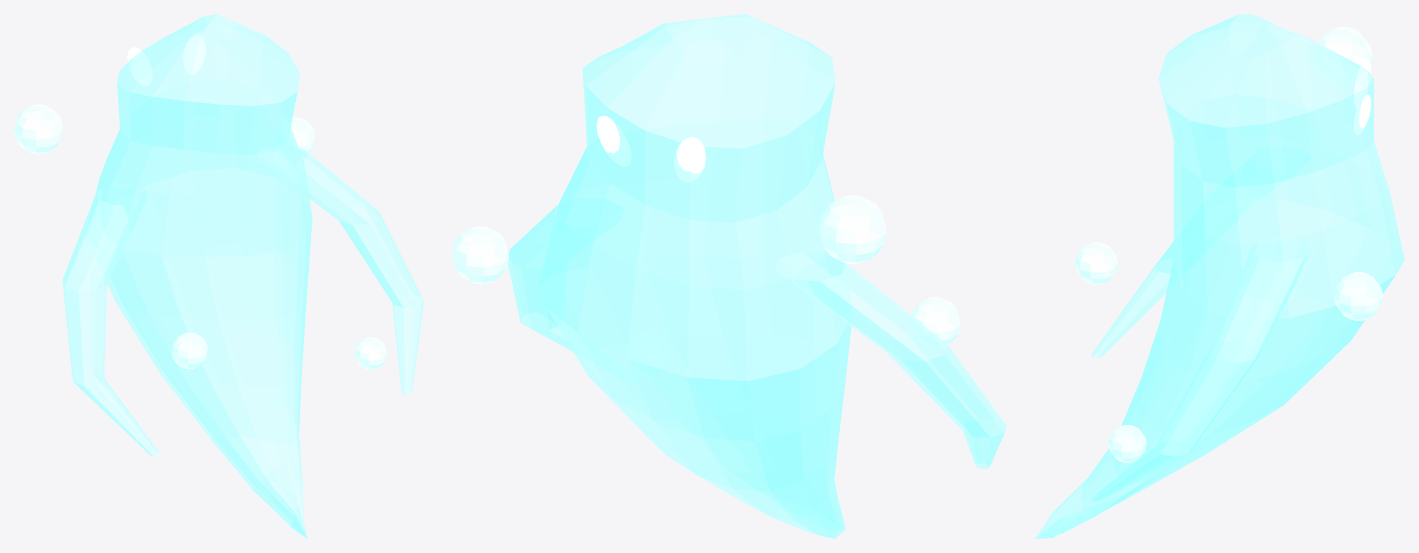
File: GhostSoul.glb
3 views of the same model, side by side, from view 1: azimuth 30°, elevation 25°; view 2: azimuth 150°, elevation 25°; view 3: azimuth 270°, elevation 25° (orthographic). The views are drawn at different scales.
Visible parts, largest first — view 1: Ghost_Body, Ghost_Arm_Left, Ghost_Arm_Right, Spirit_Orb_0, Spirit_Orb_2, Spirit_Orb_1, Spirit_Orb_3, Ghost_Eye_Right, Ghost_Eye_Left; view 2: Ghost_Body, Ghost_Arm_Left, Ghost_Arm_Right, Spirit_Orb_0, Spirit_Orb_1, Spirit_Orb_2, Spirit_Orb_3, Ghost_Eye_Left, Ghost_Eye_Right; view 3: Ghost_Body, Ghost_Arm_Right, Ghost_Arm_Left, Spirit_Orb_0, Spirit_Orb_1, Spirit_Orb_2, Spirit_Orb_3, Ghost_Eye_Left, Ghost_Eye_Right.
Part boxes in pixels (box(x1,y1,x2,y2)): Ghost_Body: box(95, 14, 312, 538); Ghost_Arm_Left: box(62, 184, 160, 456); Ghost_Arm_Right: box(257, 145, 423, 395); Spirit_Orb_0: box(14, 104, 62, 154); Spirit_Orb_2: box(171, 332, 207, 369); Spirit_Orb_1: box(274, 117, 315, 156); Spirit_Orb_3: box(354, 337, 386, 369); Ghost_Eye_Right: box(183, 32, 205, 74); Ghost_Eye_Left: box(127, 47, 152, 85); Ghost_Body: box(538, 14, 851, 538); Ghost_Arm_Left: box(776, 252, 1006, 469); Ghost_Arm_Right: box(508, 198, 623, 351); Spirit_Orb_0: box(819, 195, 886, 264); Spirit_Orb_1: box(452, 226, 508, 284); Spirit_Orb_2: box(911, 297, 960, 347); Spirit_Orb_3: box(627, 331, 670, 374); Ghost_Eye_Left: box(674, 137, 705, 182); Ghost_Eye_Right: box(596, 115, 631, 166); Ghost_Body: box(1035, 14, 1404, 538); Ghost_Arm_Right: box(1091, 237, 1311, 501); Ghost_Arm_Left: box(1091, 154, 1311, 358); Spirit_Orb_0: box(1314, 27, 1372, 84); Spirit_Orb_1: box(1334, 272, 1383, 320); Spirit_Orb_2: box(1075, 242, 1118, 284); Spirit_Orb_3: box(1108, 425, 1146, 462); Ghost_Eye_Left: box(1354, 58, 1371, 108); Ghost_Eye_Right: box(1354, 94, 1370, 134).
Bounding box in the file's own units: 0.61 × 0.74 × 0.48.
